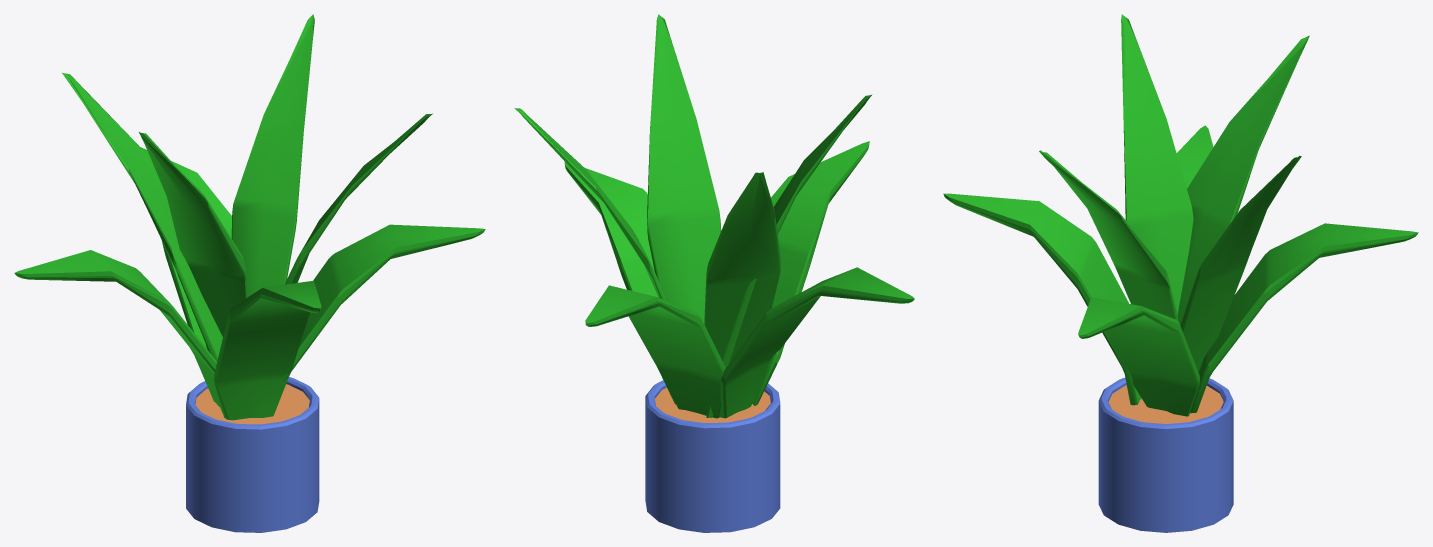
Rendered from plant_pot1.fbx.
3 views of the same model, side by side, from view 1: azimuth 30°, elevation 25°; view 2: azimuth 150°, elevation 25°; view 3: azimuth 270°, elevation 25° (orthographic).
Parts seen in each view (by area): view 1: Pot; view 2: Pot; view 3: Pot.
Boxes of the visible parts, x1,y1,x2,y2 form: Pot: (14, 14, 485, 532); Pot: (514, 14, 914, 532); Pot: (943, 14, 1418, 532).
Bounding box in the file's own units: 1211 × 1195 × 1215.
